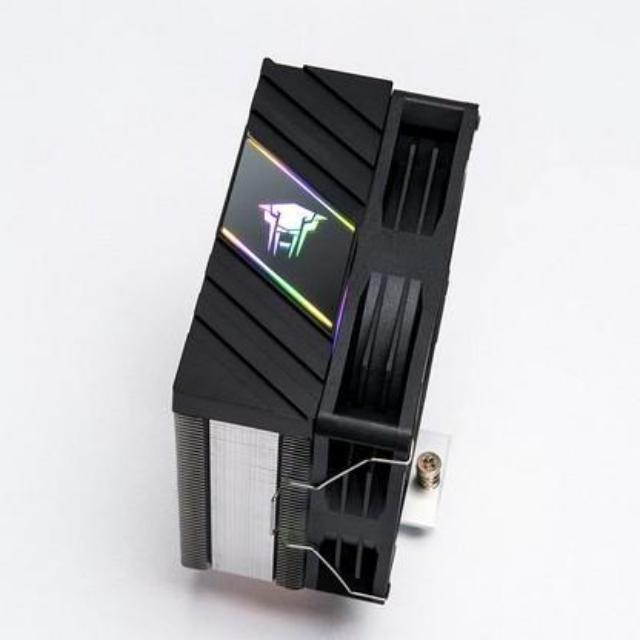CPU_Fan: (168, 53, 480, 607)
